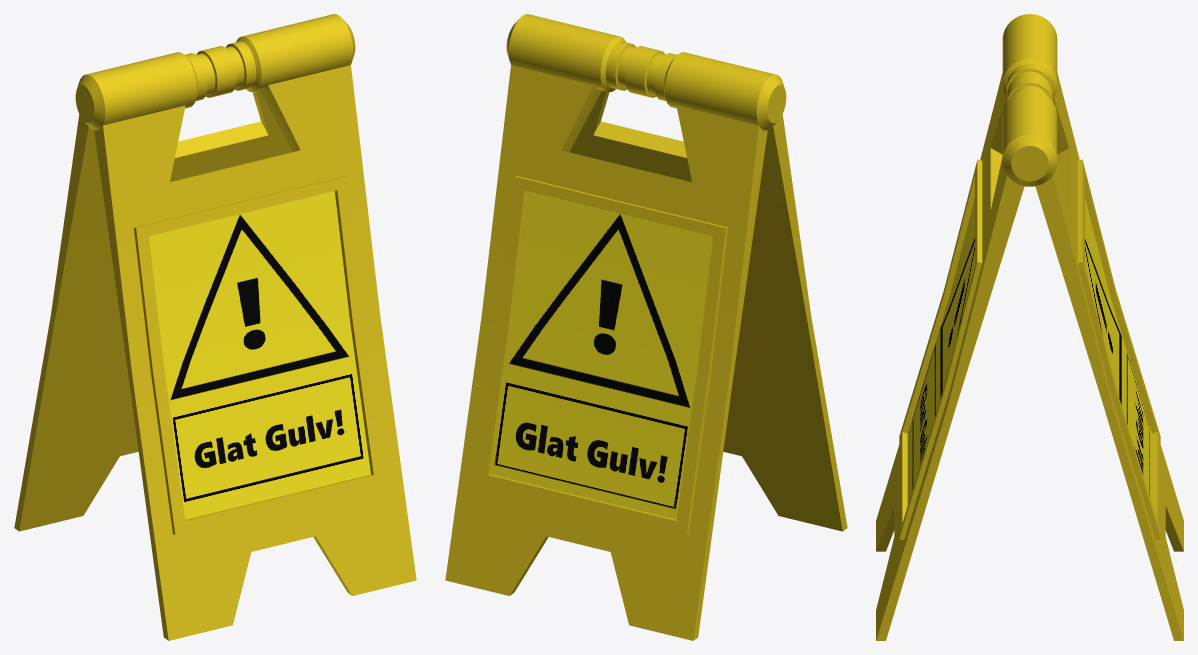
The model's file is GlatGulvSkilt.fbx.
3 views of the same model, side by side, from view 1: azimuth 30°, elevation 25°; view 2: azimuth 150°, elevation 25°; view 3: azimuth 270°, elevation 25° (orthographic).
Parts seen in each view (by area): view 1: Sign; view 2: Sign; view 3: Sign.
Part boxes in pixels (<box>): Sign: <box>14,14,416,640</box>; Sign: <box>445,14,847,640</box>; Sign: <box>876,14,1183,640</box>.
Size of the model in its own units: 274 by 510 by 281.
